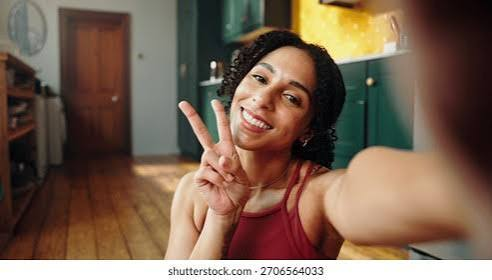peace_sign: (176, 94, 257, 211)
